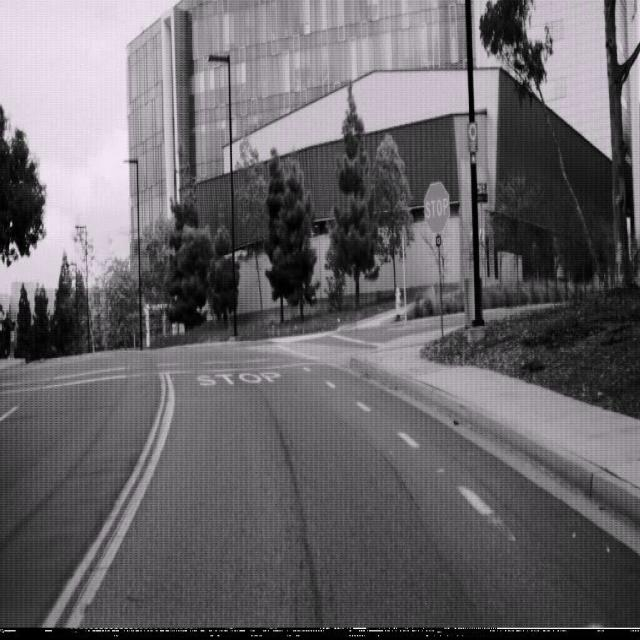stop: (423, 180, 450, 234)
